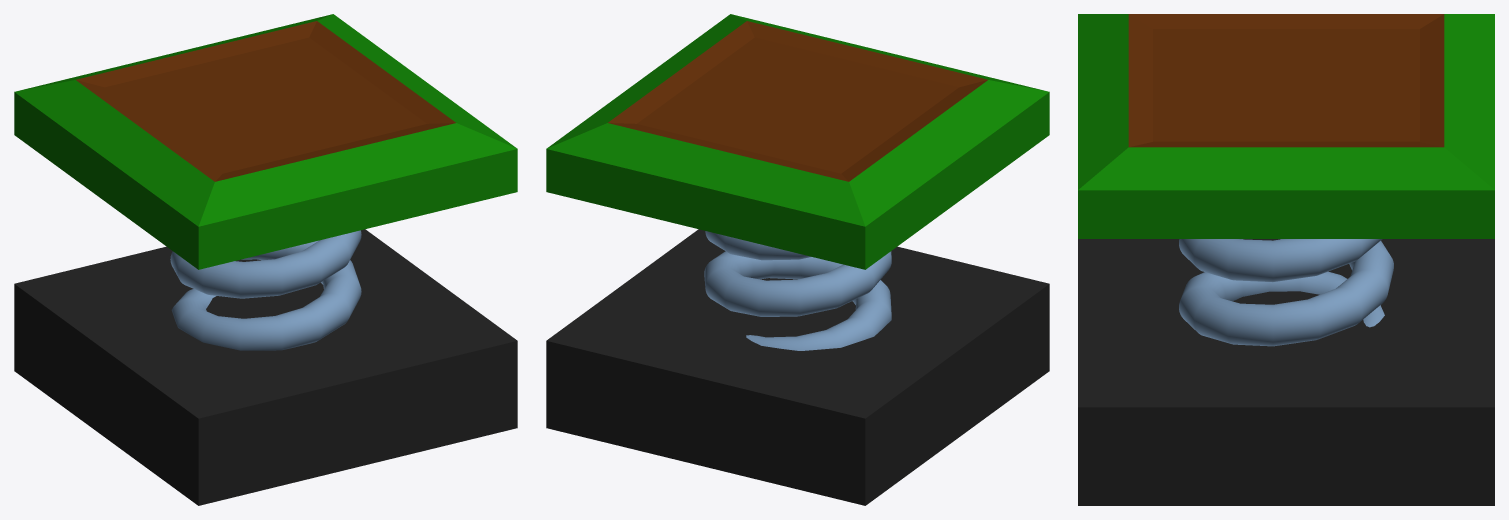
Rendered from SpringPlate.fbx.
3 views of the same model, side by side, from view 1: azimuth 30°, elevation 25°; view 2: azimuth 150°, elevation 25°; view 3: azimuth 270°, elevation 25° (orthographic). The views are drawn at different scales.
Visible parts, largest first — view 1: Cube, Cube.001, Circle; view 2: Cube, Cube.001, Circle; view 3: Cube.001, Cube, Circle.
Boxes of the visible parts, box(x1,y1,x2,y2) form: Cube: box(14, 229, 517, 505); Cube.001: box(14, 14, 517, 269); Circle: box(170, 230, 361, 350); Cube: box(546, 229, 1049, 505); Cube.001: box(546, 14, 1049, 269); Circle: box(704, 231, 891, 350); Cube.001: box(1078, 14, 1494, 238); Cube: box(1078, 239, 1494, 505); Circle: box(1179, 239, 1393, 346).
Size of the model in its own units: 200 by 179 by 200.
